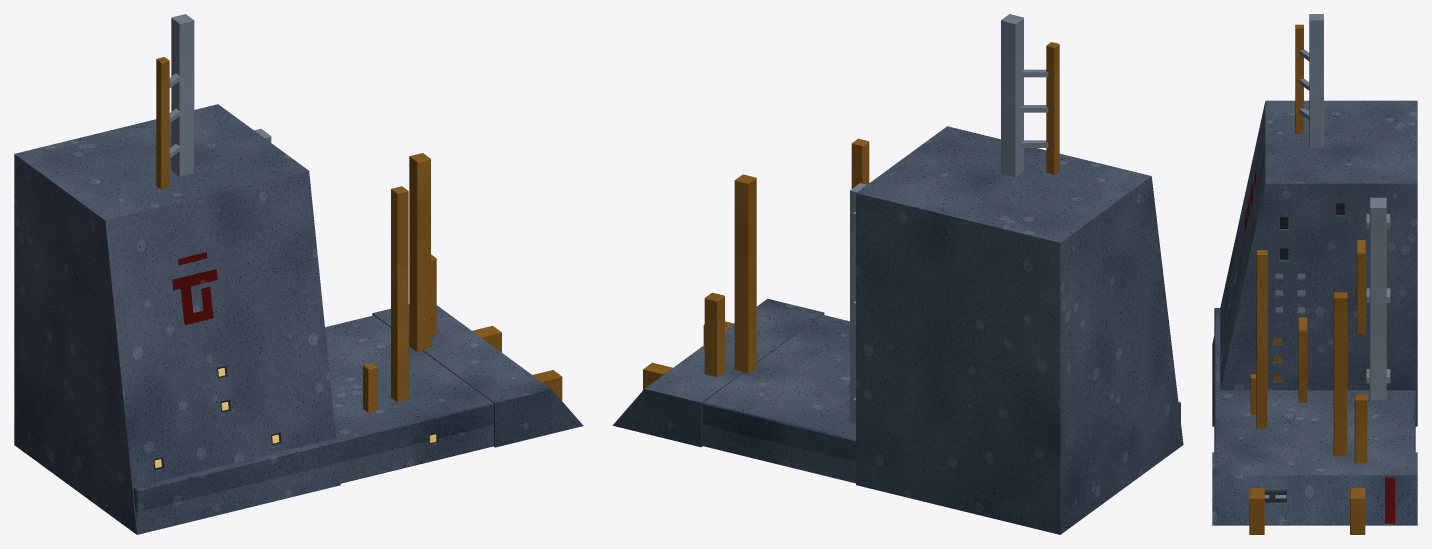
3 views of the same model, side by side, from view 1: azimuth 30°, elevation 25°; view 2: azimuth 150°, elevation 25°; view 3: azimuth 270°, elevation 25° (orthographic). The views are drawn at different scales.
Parts seen in each view (by area): view 1: Construction Area inclined main concrete block, Construction Area low projecting plinth, Construction Area brass service assemblies, Construction Area sloping service nose, Construction Area pale service assemblies, Construction Area red source markings; view 2: Construction Area inclined main concrete block, Construction Area low projecting plinth, Construction Area brass service assemblies, Construction Area sloping service nose, Construction Area pale service assemblies; view 3: Construction Area inclined main concrete block, Construction Area sloping service nose, Construction Area low projecting plinth, Construction Area brass service assemblies, Construction Area pale service assemblies, Construction Area red source markings, Construction Area dark field backings.
Boxes of the visible parts, x1=… form: Construction Area inclined main concrete block: x1=14, y1=104, x2=340, y2=534; Construction Area low projecting plinth: x1=133, y1=315, x2=493, y2=524; Construction Area brass service assemblies: x1=156, y1=57, x2=562, y2=412; Construction Area sloping service nose: x1=372, y1=304, x2=583, y2=447; Construction Area pale service assemblies: x1=169, y1=14, x2=271, y2=176; Construction Area red source markings: x1=172, y1=252, x2=217, y2=325; Construction Area inclined main concrete block: x1=856, y1=126, x2=1183, y2=534; Construction Area low projecting plinth: x1=702, y1=315, x2=1180, y2=483; Construction Area brass service assemblies: x1=643, y1=42, x2=1059, y2=389; Construction Area sloping service nose: x1=613, y1=298, x2=824, y2=447; Construction Area pale service assemblies: x1=850, y1=14, x2=1048, y2=423; Construction Area inclined main concrete block: x1=1212, y1=100, x2=1417, y2=426; Construction Area sloping service nose: x1=1212, y1=452, x2=1417, y2=525; Construction Area low projecting plinth: x1=1214, y1=308, x2=1415, y2=452; Construction Area brass service assemblies: x1=1249, y1=24, x2=1367, y2=534; Construction Area pale service assemblies: x1=1264, y1=14, x2=1390, y2=498; Construction Area red source markings: x1=1244, y1=170, x2=1395, y2=523; Construction Area dark field backings: x1=1264, y1=203, x2=1344, y2=502.
Size of the model in its own units: 2.53 by 2.46 by 1.2.
Materials: 6 (5 with a texture image).
